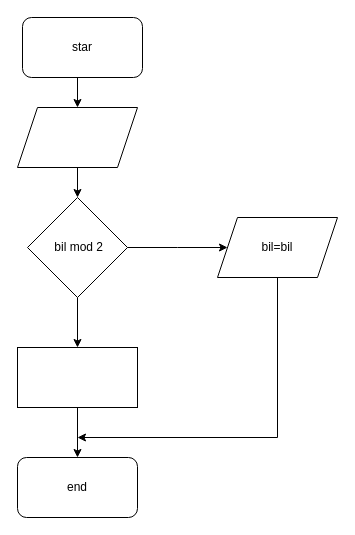
Image size: 355x535. Some labels were removed from this diagram. The centre of each missing label's shape, as x and y in pixels:
bil: the point at 77,137
bil=bil ganjil: the point at 77,377
